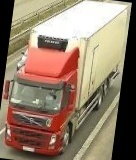truck: (0, 0, 128, 160)
